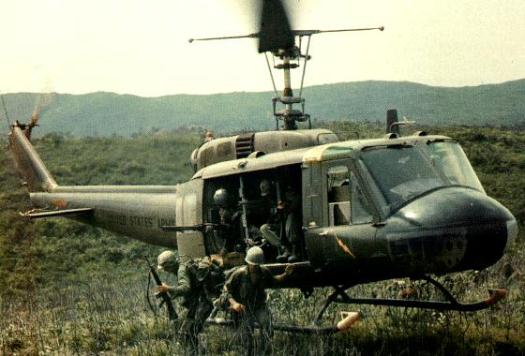MilitaryHelicopter: (9, 105, 520, 272)
